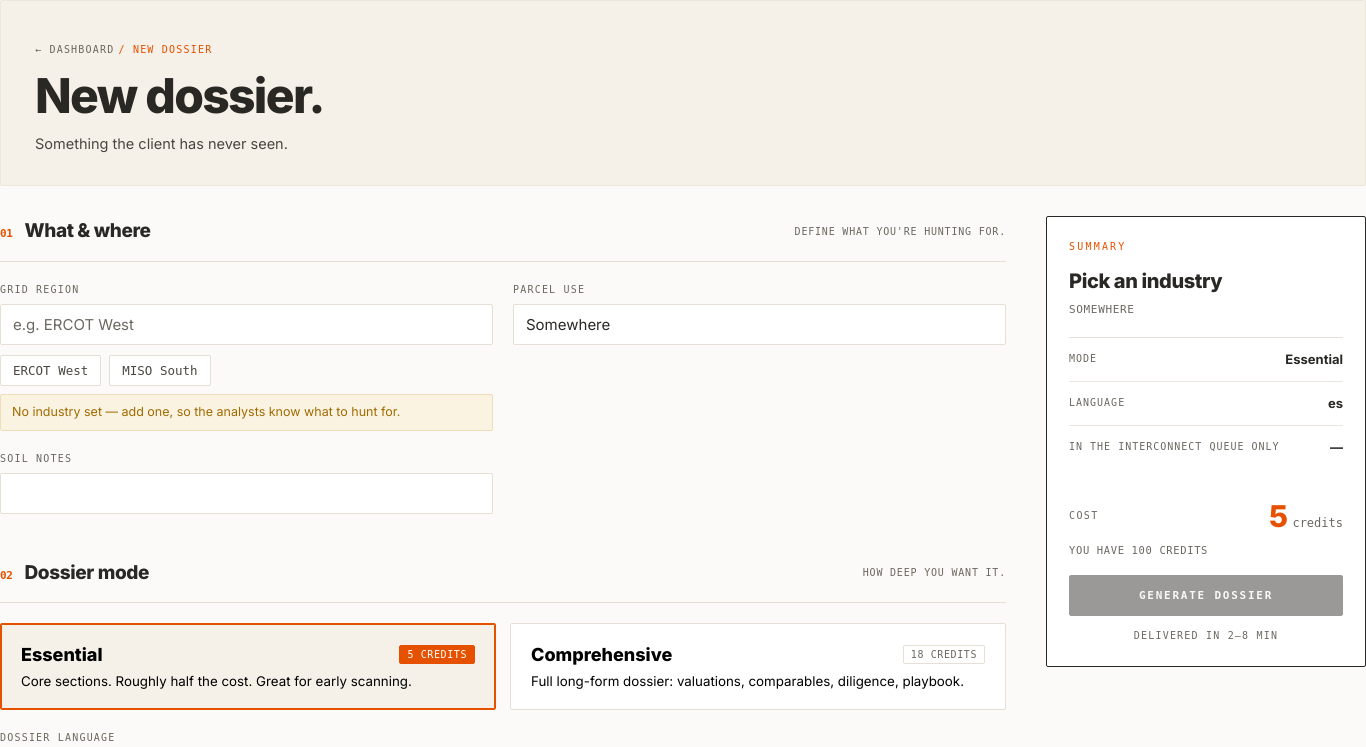
a rate-limited preview does not become an order › …and ticking a basic narrows it, from the default the manifest declares (round 10, R10-6)
The width and height of the screenshot is (1366, 747).
Type "ERCOT West" into the field with placeholder "e.g. ERCOT West" at (246, 324), box [0,304,493,345]
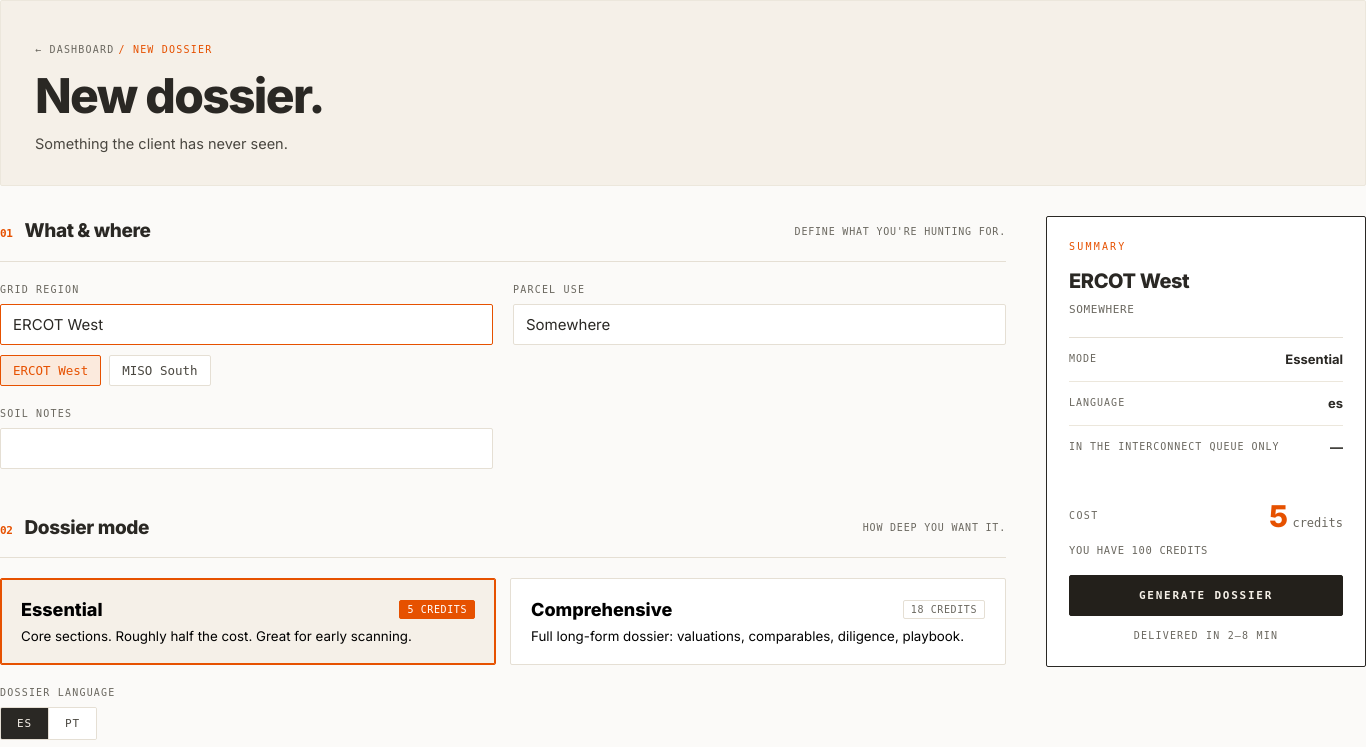
Click the button "Generate dossier" at (1206, 596), box [1069,575,1343,616]
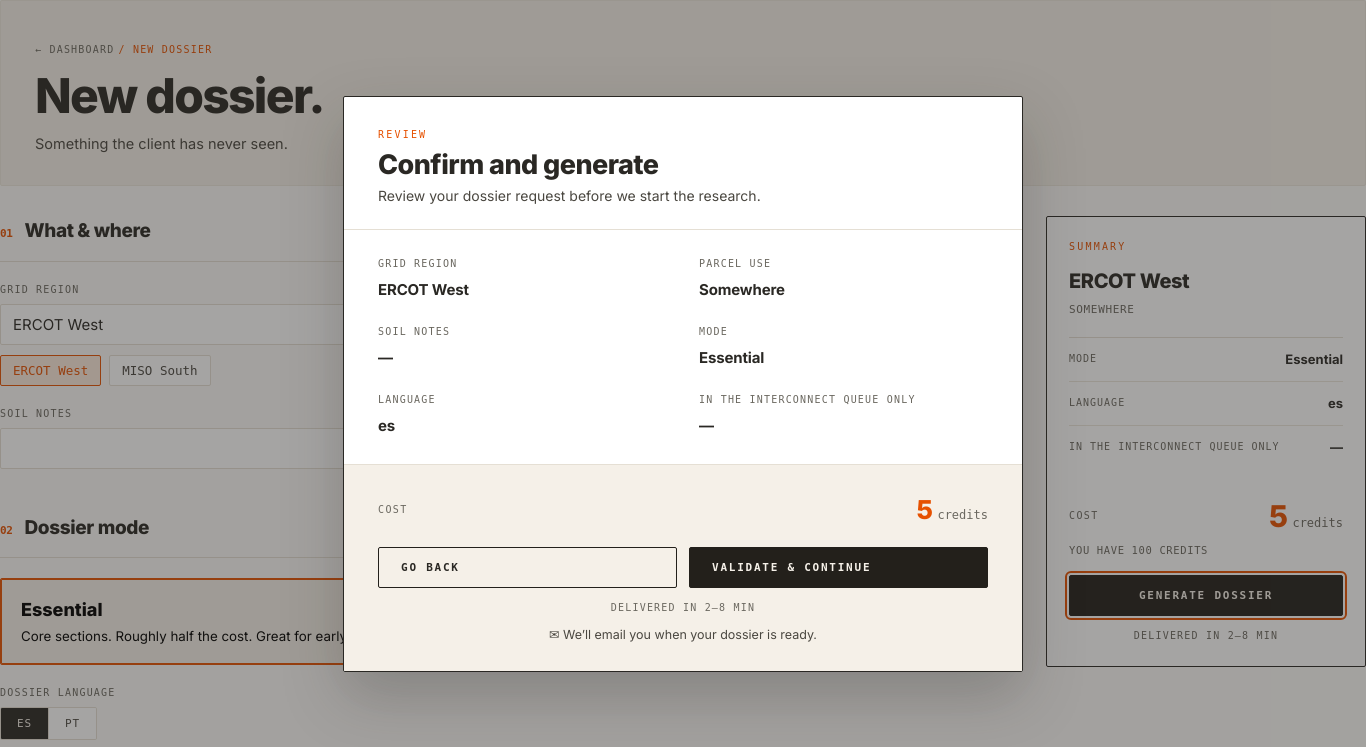
Click the button "Validate & continue" at (838, 568), box [689,547,988,588]
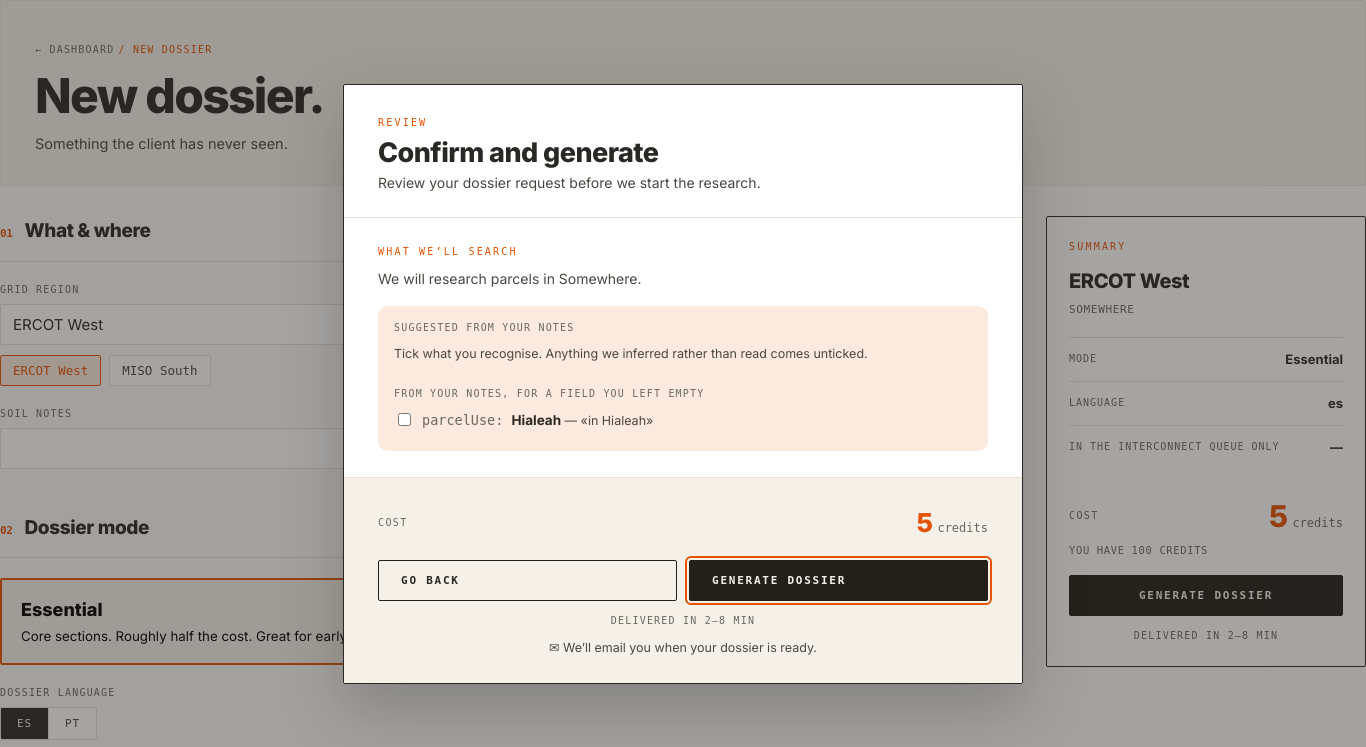
Result: the element with test id "proposals" is shown at [378,306,988,451]
Result: the text with test id "confirm-summary" shows "Somewhere" at [378,270,642,287]
Click the checkbox with test id "accept-basic-parcelUse" at (404, 420), box [398,413,411,426]
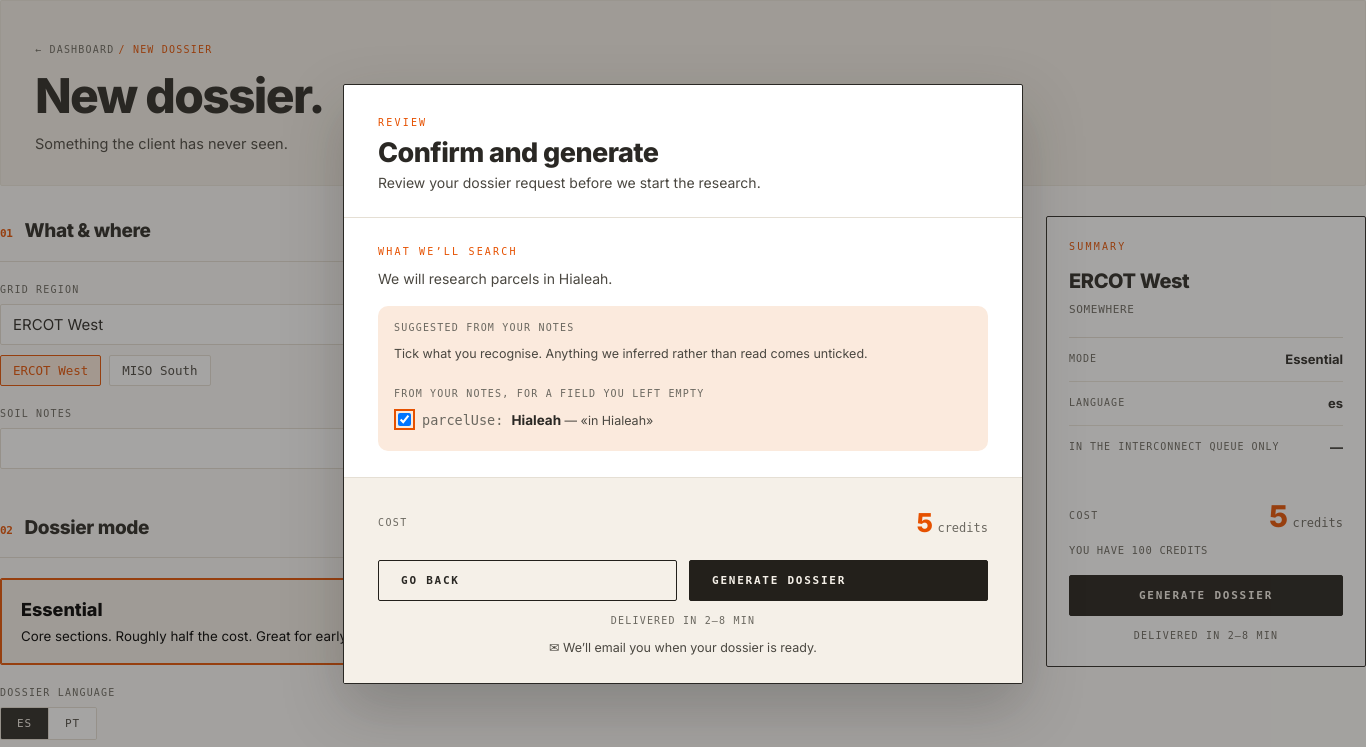
Result: the text with test id "confirm-summary" shows "Hialeah" at [378,270,612,287]
